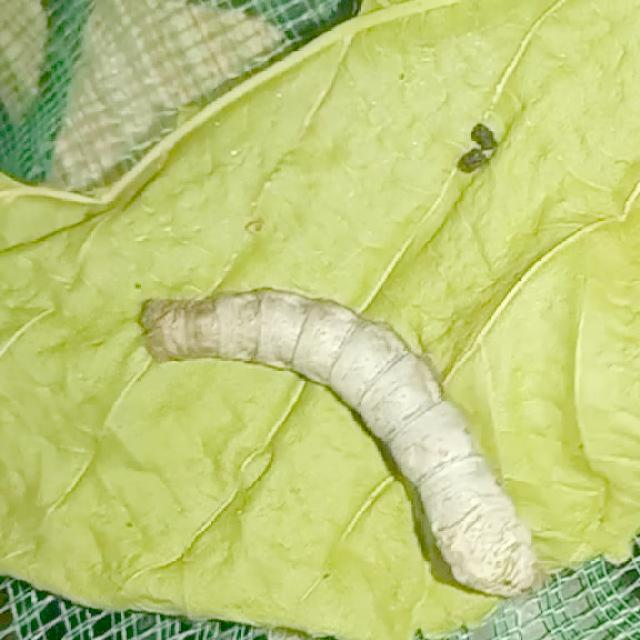Grasserie: (97, 266, 554, 609)
